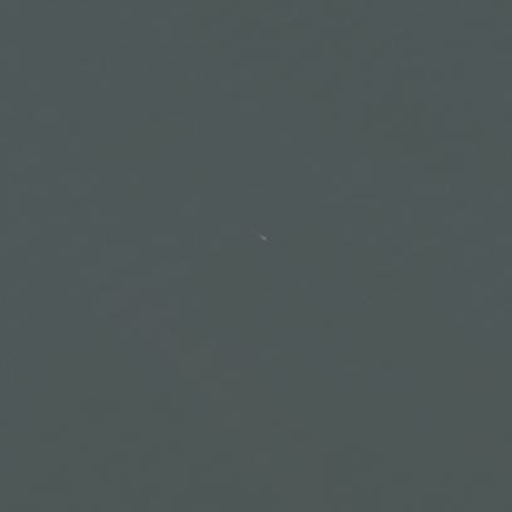ship: (253, 229, 272, 244)
